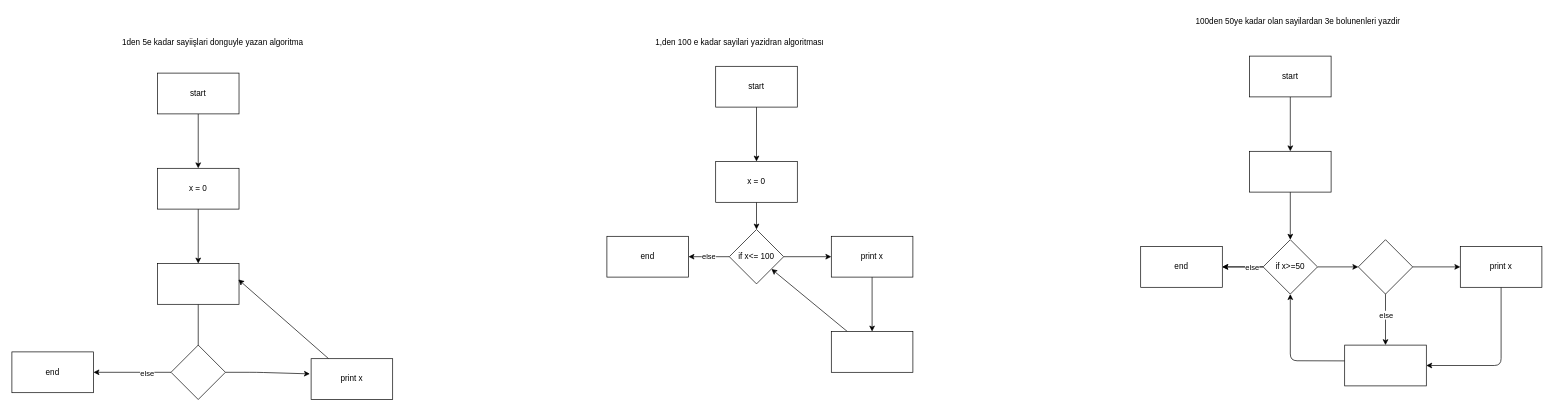
Some shapes in this 1554 by 411 pixel diagram are drawn without their labels. Here are the shapes that lost their labels. From the top down, the centre of each, then its label:
(1290,171): x= 100
(198,283): x =+ 1
(1385,266): if x%3 =0
(872,351): x =+ 2
(1385,365): x=-1
(197,372): if x<=5
